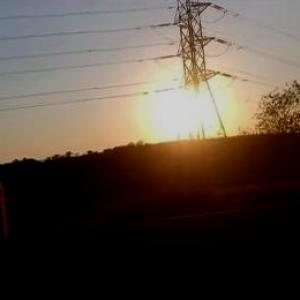follow: (262, 213, 299, 299)
